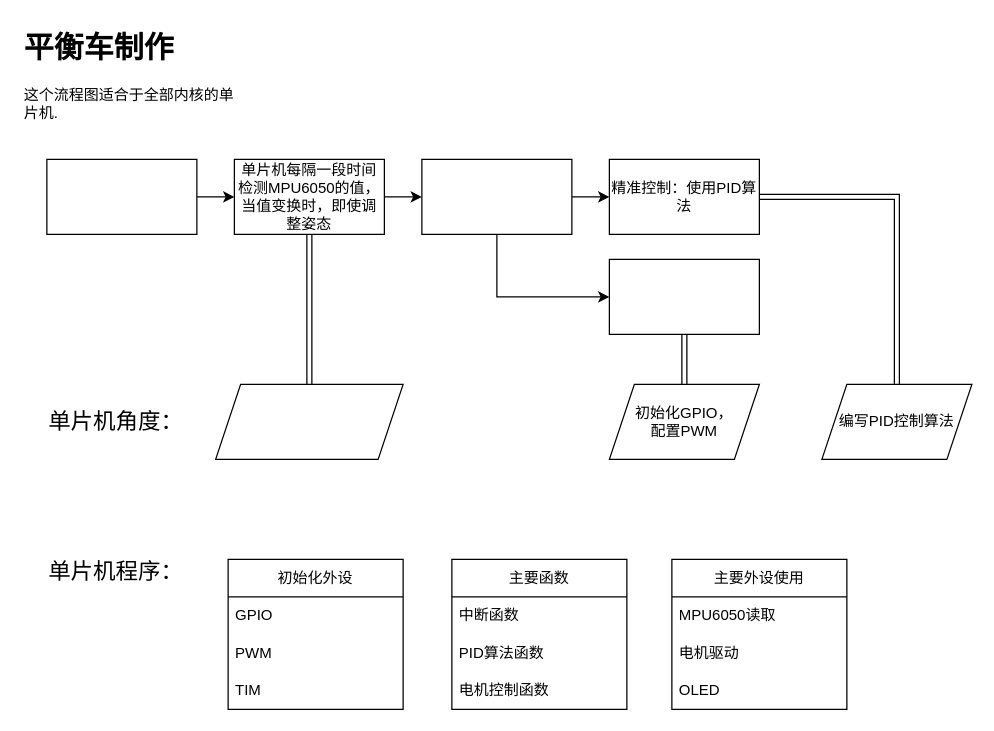
Some shapes in this 994 by 731 pixel diagram are drawn without their labels. The shapes that lost their labels are listed below. From the top down, each one's centre as x and y in pixels, then its label:
the point at 121,196: 平衡
the point at 496,196: 调整姿态：通过控制两个电机来实现
the point at 683,296: 如何控制电机： 通过控制电机驱动
the point at 308,421: 初始化定时器，设置每10ms触发中断
